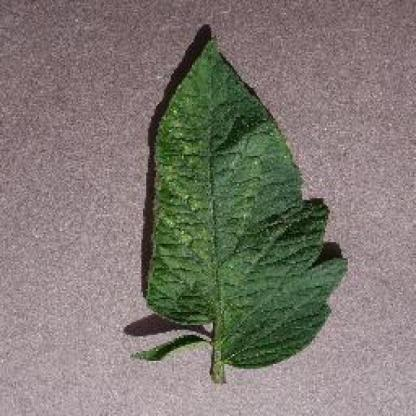Tomato_Spider_Mites: (132, 38, 350, 368)
